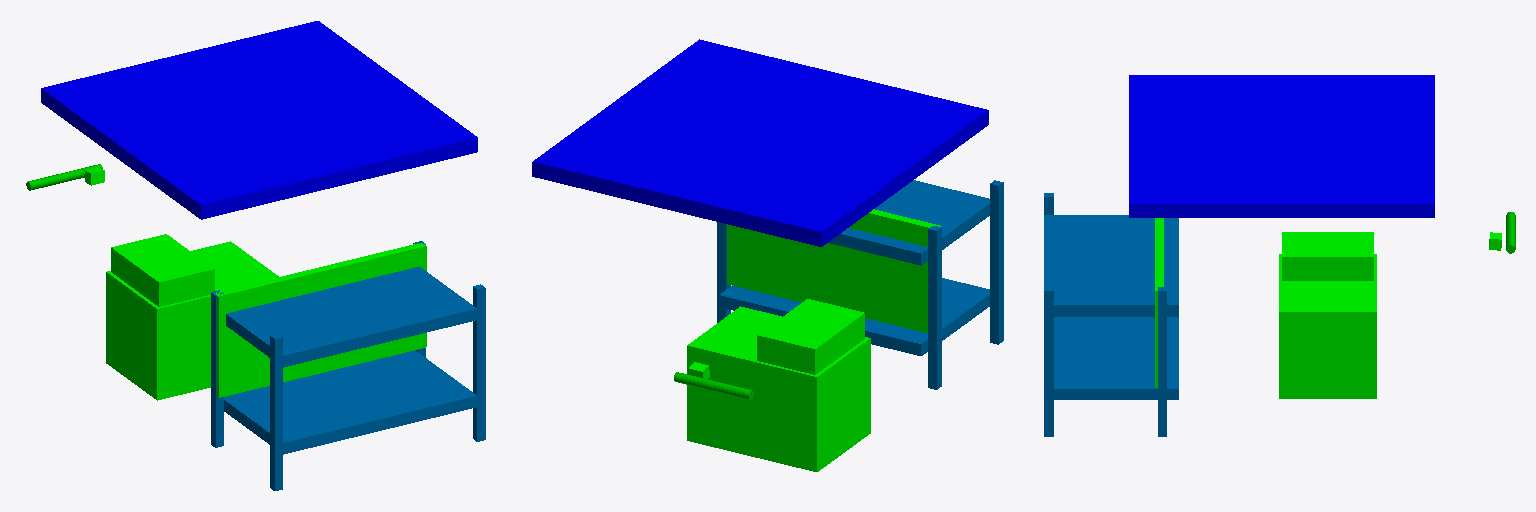
robot.urdf — ur10:
<?xml version="1.0" ?>
<!-- =================================================================================== -->
<!-- |    This document was autogenerated by xacro from ur10_robot.urdf.xacro          | -->
<!-- |    EDITING THIS FILE BY HAND IS NOT RECOMMENDED                                 | -->
<!-- =================================================================================== -->
<robot name="ur10" xmlns:xacro="http://ros.org/wiki/xacro">
  <gazebo>
    <plugin filename="libgazebo_ros_control.so" name="ros_control">
      <!--robotNamespace>/</robotNamespace-->
      <!--robotSimType>gazebo_ros_control/DefaultRobotHWSim</robotSimType-->
    </plugin>
  </gazebo>
  <!--
  Author: [author]
  Contributers: [author], [author], [author]
-->
  <!-- measured from model -->

  <!-- nothing to do here at the moment -->
  <!-- ROS base_link to UR 'Base' Coordinates transform -->
  <link name="base"/>
  <joint name="base_link-base_fixed_joint" type="fixed">
    <!-- NOTE: this rotation is only needed as long as base_link itself is
                 not corrected wrt the real robot (ie: rotated over 180
                 degrees)
      -->
    <origin rpy="0 0 1.5707963" xyz="0 0 0"/>
    <parent link="base"/>
    <child link="base_link"/>
  </joint>

  <link name="base_link">
    <visual>
      <geometry>
        <mesh filename="package://ur_description/meshes/ur10/visual/base.dae"/>
      </geometry>
      <material name="LightGrey">
        <color rgba="0.7 0.7 0.7 1.0"/>
      </material>
    </visual>
    <collision>
      <geometry>
        <mesh filename="package://ur_description/meshes/ur10/collision/base.stl"/>
      </geometry>
    </collision>
    <inertial>
      <mass value="4.0"/>
      <origin rpy="0 0 0" xyz="0.0 0.0 0.0"/>
      <inertia ixx="0.0061063308908" ixy="0.0" ixz="0.0" iyy="0.0061063308908" iyz="0.0" izz="0.01125"/>
    </inertial>
  </link>
  <joint name="shoulder_pan_joint" type="revolute">
    <parent link="base_link"/>
    <child link="shoulder_link"/>
    <origin rpy="0.0 0.0 0.0" xyz="0.0 0.0 0.1273"/>
    <axis xyz="0 0 1"/>
    <limit effort="330.0" lower="-3.14" upper="3.14" velocity="2.16"/>
    <dynamics damping="0.0" friction="0.0"/>
  </joint>
  <link name="shoulder_link">
    <visual>
      <geometry>
        <mesh filename="package://ur_description/meshes/ur10/visual/shoulder.dae"/>
      </geometry>
      <material name="LightGrey">
        <color rgba="0.7 0.7 0.7 1.0"/>
      </material>
    </visual>
    <collision>
      <geometry>
        <mesh filename="package://ur_description/meshes/ur10/collision/shoulder.stl"/>
      </geometry>
    </collision>
    <inertial>
      <mass value="7.778"/>
      <origin rpy="0 0 0" xyz="0.0 0.0 0.0"/>
      <inertia ixx="0.0314743125769" ixy="0.0" ixz="0.0" iyy="0.0314743125769" iyz="0.0" izz="0.021875625"/>
    </inertial>
  </link>
  <joint name="shoulder_lift_joint" type="revolute">
    <parent link="shoulder_link"/>
    <child link="upper_arm_link"/>
    <origin rpy="0.0 1.57079632679 0.0" xyz="0.0 0.220941 0.0"/>
    <axis xyz="0 1 0"/>
    <limit effort="330.0" lower="-3.14" upper="3.14" velocity="2.16"/>
    <dynamics damping="0.0" friction="0.0"/>
  </joint>
  <link name="upper_arm_link">
    <visual>
      <geometry>
        <mesh filename="package://ur_description/meshes/ur10/visual/upperarm.dae"/>
      </geometry>
      <material name="LightGrey">
        <color rgba="0.7 0.7 0.7 1.0"/>
      </material>
    </visual>
    <collision>
      <geometry>
        <mesh filename="package://ur_description/meshes/ur10/collision/upperarm.stl"/>
      </geometry>
    </collision>
    <inertial>
      <mass value="12.93"/>
      <origin rpy="0 0 0" xyz="0.0 0.0 0.306"/>
      <inertia ixx="0.421753803798" ixy="0.0" ixz="0.0" iyy="0.421753803798" iyz="0.0" izz="0.036365625"/>
    </inertial>
  </link>
  <joint name="elbow_joint" type="revolute">
    <parent link="upper_arm_link"/>
    <child link="forearm_link"/>
    <origin rpy="0.0 0.0 0.0" xyz="0.0 -0.1719 0.612"/>
    <axis xyz="0 1 0"/>
    <limit effort="150.0" lower="-3.14" upper="3.14" velocity="3.15"/>
    <dynamics damping="0.0" friction="0.0"/>
  </joint>
  <link name="forearm_link">
    <visual>
      <geometry>
        <mesh filename="package://ur_description/meshes/ur10/visual/forearm.dae"/>
      </geometry>
      <material name="LightGrey">
        <color rgba="0.7 0.7 0.7 1.0"/>
      </material>
    </visual>
    <collision>
      <geometry>
        <mesh filename="package://ur_description/meshes/ur10/collision/forearm.stl"/>
      </geometry>
    </collision>
    <inertial>
      <mass value="3.87"/>
      <origin rpy="0 0 0" xyz="0.0 0.0 0.28615"/>
      <inertia ixx="0.111069694097" ixy="0.0" ixz="0.0" iyy="0.111069694097" iyz="0.0" izz="0.010884375"/>
    </inertial>
  </link>
  <joint name="wrist_1_joint" type="revolute">
    <parent link="forearm_link"/>
    <child link="wrist_1_link"/>
    <origin rpy="0.0 1.57079632679 0.0" xyz="0.0 0.0 0.5723"/>
    <axis xyz="0 1 0"/>
    <limit effort="54.0" lower="1" upper="5.5" velocity="3.2"/>
    <dynamics damping="0.0" friction="0.0"/>
  </joint>
  <link name="wrist_1_link">
    <visual>
      <geometry>
        <mesh filename="package://ur_description/meshes/ur10/visual/wrist1.dae"/>
      </geometry>
      <material name="LightGrey">
        <color rgba="0.7 0.7 0.7 1.0"/>
      </material>
    </visual>
    <collision>
      <geometry>
        <mesh filename="package://ur_description/meshes/ur10/collision/wrist1.stl"/>
      </geometry>
    </collision>
    <inertial>
      <mass value="1.96"/>
      <origin rpy="0 0 0" xyz="0.0 0.0 0.0"/>
      <inertia ixx="0.0051082479567" ixy="0.0" ixz="0.0" iyy="0.0051082479567" iyz="0.0" izz="0.0055125"/>
    </inertial>
  </link>
  <joint name="wrist_2_joint" type="revolute">
    <parent link="wrist_1_link"/>
    <child link="wrist_2_link"/>
    <origin rpy="0.0 0.0 0.0" xyz="0.0 0.1149 0.0"/>
    <axis xyz="0 0 1"/>
    <limit effort="54.0" lower="-3.14" upper="3.14" velocity="3.2"/>
    <dynamics damping="0.0" friction="0.0"/>
  </joint>
  <link name="wrist_2_link">
    <visual>
      <geometry>
        <mesh filename="package://ur_description/meshes/ur10/visual/wrist2.dae"/>
      </geometry>
      <material name="LightGrey">
        <color rgba="0.7 0.7 0.7 1.0"/>
      </material>
    </visual>
    <collision>
      <geometry>
        <mesh filename="package://ur_description/meshes/ur10/collision/wrist2.stl"/>
      </geometry>
    </collision>
    <inertial>
      <mass value="1.96"/>
      <origin rpy="0 0 0" xyz="0.0 0.0 0.0"/>
      <inertia ixx="0.0051082479567" ixy="0.0" ixz="0.0" iyy="0.0051082479567" iyz="0.0" izz="0.0055125"/>
    </inertial>
  </link>
  <joint name="wrist_3_joint" type="revolute">
    <parent link="wrist_2_link"/>
    <child link="wrist_3_link"/>
    <origin rpy="0.0 0.0 0.0" xyz="0.0 0.0 0.1157"/>
    <axis xyz="0 1 0"/>
    <limit effort="54.0" lower="-3.14" upper="3.14" velocity="3.2"/>
    <dynamics damping="0.0" friction="0.0"/>
  </joint>
  <link name="wrist_3_link">
    <visual>
      <geometry>
        <mesh filename="package://ur_description/meshes/ur10/visual/wrist3.dae"/>
      </geometry>
      <material name="LightGrey">
        <color rgba="0.7 0.7 0.7 1.0"/>
      </material>
    </visual>
    <collision>
      <geometry>
        <mesh filename="package://ur_description/meshes/ur10/collision/wrist3.stl"/>
      </geometry>
    </collision>
    <inertial>
      <mass value="0.202"/>
      <origin rpy="0 0 0" xyz="0.0 0.0 0.0"/>
      <inertia ixx="0.000526462289415" ixy="0.0" ixz="0.0" iyy="0.000526462289415" iyz="0.0" izz="0.000568125"/>
    </inertial>
  </link>
  <joint name="ee_fixed_joint" type="fixed">
    <parent link="wrist_3_link"/>
    <child link="ee_link"/>
    <origin rpy="0.0 0.0 1.57079632679" xyz="0.0 0.0922 0.0"/>
  </joint>
  <link name="ee_link">
    <collision>
      <geometry>
        <box size="0.01 0.01 0.01"/>
      </geometry>
      <origin rpy="0 0 0" xyz="-0.01 0 0"/>
    </collision>
  </link>

  <!-- Frame coincident with all-zeros TCP on UR controller -->
  <link name="tool0"/>
  <joint name="wrist_3_link-tool0_fixed_joint" type="fixed">
    <origin rpy="-1.57079632679 0 0" xyz="0 0.0922 0"/>
    <parent link="wrist_3_link"/>
    <child link="tool0"/>
  </joint>


  <link name="tool1">
    <visual>
      <geometry>
        <cylinder length="0.52" radius="0.03"/>
      </geometry>
      <origin rpy="0 1.57 0" xyz="-0.26 0 0"/>
	  <material name="green">
    	<color rgba="0 0.8 0 1"/>
  	  </material>
    </visual>
  </link>
  <joint name="tool0_to_tool1" type="fixed">
    <origin rpy="0 0 0" xyz="0.52 0 0"/>
    <parent link="ee_link"/>
    <child link="tool1"/>
  </joint>

  <link name="gripper">
  </link>
  <joint name="tool1_to_gripper" type="fixed">
    <origin rpy="-1.57 -1.57 0" xyz="0 0 0"/>
    <parent link="tool1"/>
    <child link="gripper"/>
  </joint>

<!--
  <link name="box">
    <visual>
      <geometry>
        <box size="0.08 0.08 0.15"/>
      </geometry>
      <origin rpy="0 0 0" xyz="0 0 0"/>
	  <material name="2">
    	<color rgba="0 1 0 1"/>
  	  </material>
    </visual>
  </link>
  <joint name="gripper_to_box" type="fixed">
    <parent link="gripper"/>
    <child link="box"/>
    <origin rpy="0.0 0.0 0.0" xyz="0 0.05 0.08"/>
  </joint>
-->

  <link name="huojia">
    <visual>
      <geometry>
        <mesh filename="package://ur_description/meshes/huojia1.stl"/>
      </geometry>
    </visual>
  </link>
  <joint name="base_to_huojia" type="fixed">
    <parent link="world"/>
    <child link="huojia"/>
    <origin rpy="0.0 0.0 0" xyz="0 -1.05 0"/>
  </joint>
<!--
  <link name="desk">
    <visual>
      <geometry>
        <mesh filename="package://ur_description/meshes/desk1.stl"/>
      </geometry>
    </visual>
  </link>
  <joint name="base_to_desk" type="fixed">
    <parent link="world"/>
    <child link="desk"/>
    <origin rpy="0.0 0.0 0" xyz="-3.25 -1.1 0"/>
  </joint>
-->

  <link name="wall1">
    <visual>
      <geometry>
        <box size="2 2 0.1"/>
      </geometry>
      <origin rpy="0 0 0" xyz="0 0 0"/>
	  <material name=" ">
    	<color rgba="0 0 1 0.1"/>
  	  </material>
    </visual>
  </link>
  <joint name="agv_to_wall1" type="fixed">
    <parent link="agv"/>
    <child link="wall1"/>
    <origin rpy="0.0 0.0 0.0" xyz="0.3 -0.3 1.75"/>
  </joint>


  <link name="wall_prm">
    <visual>
      <geometry>
        <box size="1.5 0.06 0.7"/>
      </geometry>
      <origin rpy="0 0 0" xyz="0 0 0.35"/>
	  <material name="a">
    	<color rgba="0 1 0 1"/>
  	  </material>
    </visual>
  </link>
  <joint name="world_to_wallprm" type="fixed">
    <parent link="world"/>
    <child link="wall_prm"/>
    <origin rpy="0.0 0.0 0.0" xyz="0 -1.1 0.35"/>
  </joint>



  <link name="world"/>

  <link name="agv">
    <visual>
      <geometry>
        <box size="0.9 0.64 0.63"/>
      </geometry>
      <origin rpy="0 0 0" xyz="0 0 0.315"/>
	  <material name="green">
    	<color rgba="0 1 0 1"/>
  	  </material>
    </visual>
  </link>
  <joint name="world_to_agv" type="fixed">
    <parent link="world"/>
    <child link="agv"/>
    <origin rpy="0.0 0.0 0" xyz="-0.275 0 0"/>
  </joint>

  <joint name="agv_to_base_link" type="fixed">
    <parent link="agv"/>
    <child link="base"/>
    <origin rpy="0.0 0.0 0" xyz="0.275 0 0.635"/>
  </joint>

  <link name="basket">
    <visual>
      <geometry>
        <box size="0.4 0.6 0.2"/>
      </geometry>
      <origin rpy="0 0 0" xyz="0 0 0.1"/>
	  <material name="green">
    	<color rgba="0 1 0 1"/>
  	  </material>
    </visual>
  </link>
  <joint name="agv_to_basket" type="fixed">
    <parent link="agv"/>
    <child link="basket"/>
    <origin rpy="0.0 0.0 0" xyz="-0.225 0 0.6"/>
  </joint>

  <link name="camera">
    <visual>
      <geometry>
        <box size="0.1 0.08 0.08"/>
      </geometry>
      <origin rpy="0 0 0" xyz="0 0 0"/>
	  <material name="green">
    	<color rgba="0 1 0 1"/>
  	  </material>
    </visual>
  </link>
  <joint name="ee_to_camera" type="fixed">
    <parent link="ee_link"/>
    <child link="camera"/>
    <origin rpy="0.0 0.0 0.0" xyz="0.1 0.1 0.0"/>
  </joint>


</robot>

--- Facts derived from the render (not from the file) ---
The picture shows the robot from 3 angles, left to right: view 1: azimuth 30°, elevation 25°; view 2: azimuth 150°, elevation 25°; view 3: azimuth 270°, elevation 25°; orthographic projection.
Model ur10 with 19 links and 18 joints (6 revolute, 12 fixed), rooted at world, posed all joints at 0 but 1 set to mid-range because 0 is outside their limits (wrist_1_joint = 3.25).
Links seen in each view (by area): view 1: wall1, huojia, agv, wall_prm, basket, tool1; view 2: wall1, agv, huojia, wall_prm, basket, tool1; view 3: wall1, huojia, agv, basket, wall_prm.
Boxes of the visible links, <box> form: wall1: <box>41,21,477,219</box>; huojia: <box>211,241,485,490</box>; agv: <box>106,241,278,400</box>; wall_prm: <box>214,243,426,397</box>; basket: <box>111,234,214,306</box>; tool1: <box>26,164,102,190</box>; wall1: <box>532,39,988,246</box>; agv: <box>687,306,870,471</box>; huojia: <box>717,180,1003,389</box>; wall_prm: <box>727,209,941,332</box>; basket: <box>757,299,864,374</box>; tool1: <box>674,372,753,399</box>; wall1: <box>1129,75,1434,217</box>; huojia: <box>1044,193,1178,436</box>; agv: <box>1279,254,1376,398</box>; basket: <box>1282,232,1373,280</box>; wall_prm: <box>1155,218,1163,387</box>.
Bounding box of the posed robot: 2 × 3.08 × 1.8 m (x, y, z).
1 mesh visuals loaded from 8 distinct referenced files (1 binary STL); not drawn: 7 (reference not matched to a file when rendering).